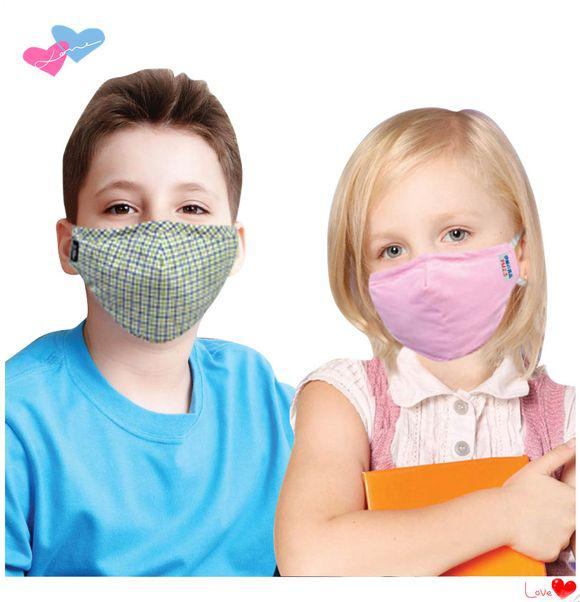OK: (72, 156, 240, 334), (363, 204, 511, 354)
